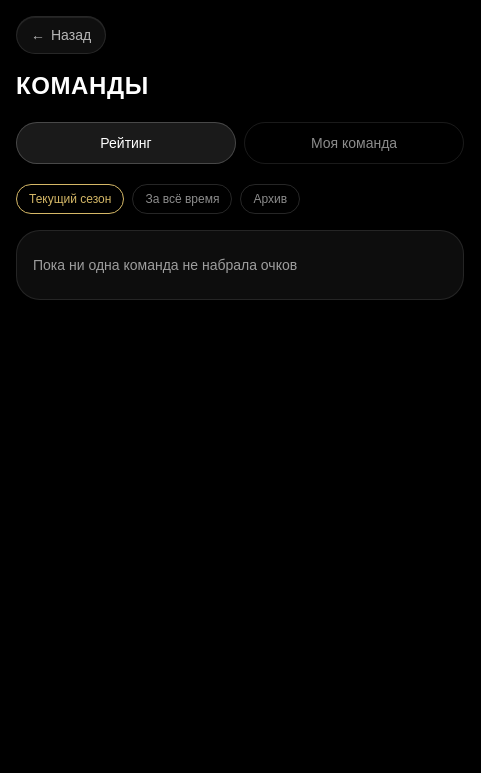
Scenario: Teams -- Моя команда tab, has a team › former contributor shows the 'Бывший участник' marker; current member does not
Click the button "Моя команда" at (354, 143), box [244, 122, 464, 164]
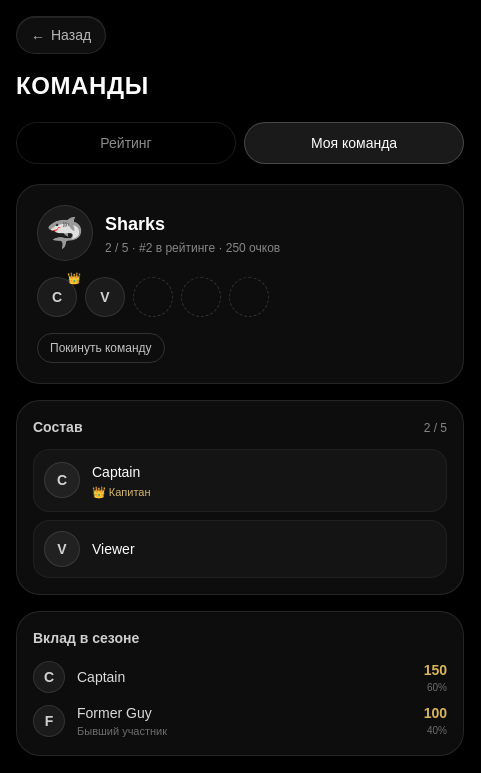
Result: the text "Former Guy" is shown at [77, 704, 152, 720]
Result: the text "Бывший участник" is shown at [77, 724, 167, 736]
